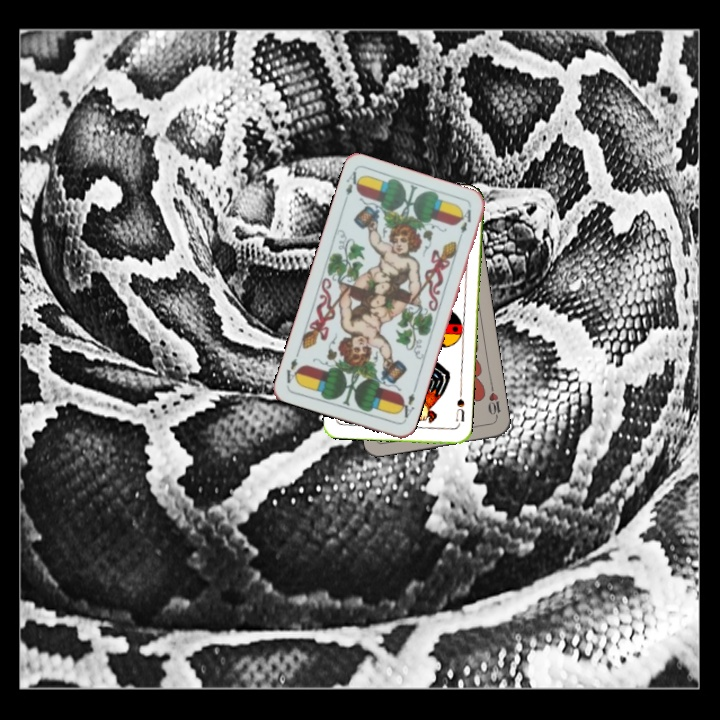EA: (395, 384, 419, 424), (340, 167, 364, 206)
H10: (484, 382, 503, 422)
SU: (452, 395, 467, 424)
